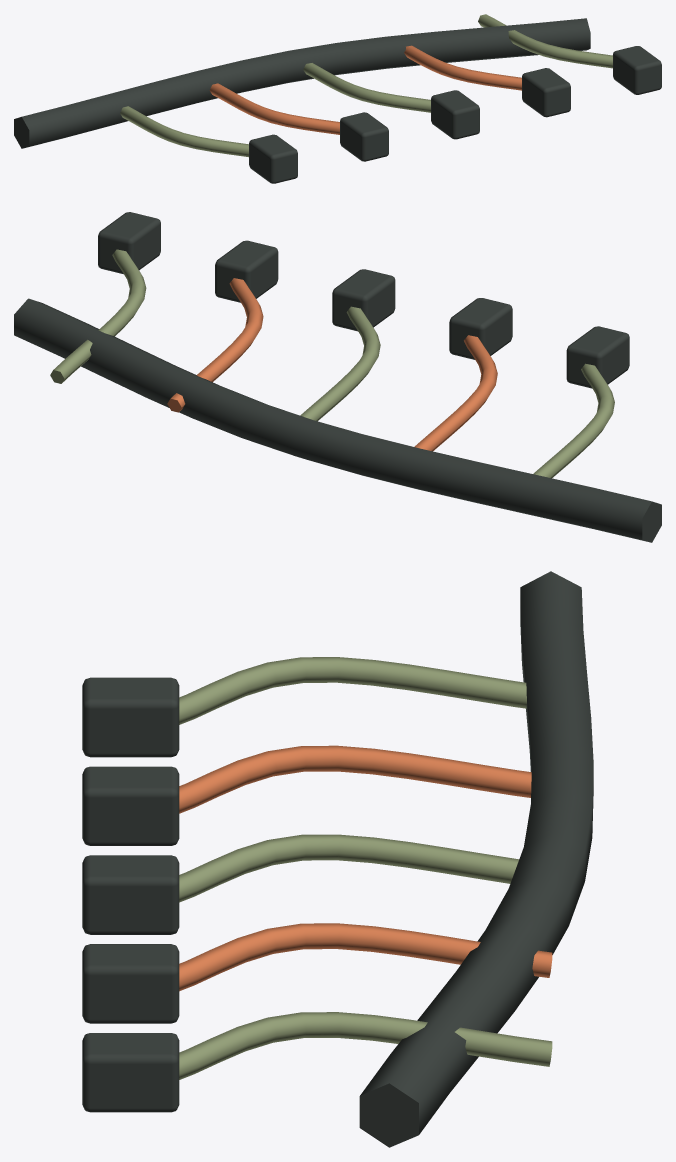
Rendered from survivor-vehicle-maintenance-wiring-harness-23f70aff__26653.glb.
3 views of the same model, one above another, from view 1: azimuth 30°, elevation 25°; view 2: azimuth 150°, elevation 25°; view 3: azimuth 270°, elevation 25° (orthographic). The views are drawn at different scales.
Parts seen in each view (by area): view 1: wiring-harness; view 2: wiring-harness; view 3: wiring-harness.
Boxes of the visible parts, left/top/right/bottom form: wiring-harness: left=14, top=14, right=661, bottom=183; wiring-harness: left=14, top=212, right=661, bottom=542; wiring-harness: left=82, top=571, right=593, bottom=1147.
Bounding box in the file's own units: 0.7552 × 0.062 × 0.3163.
